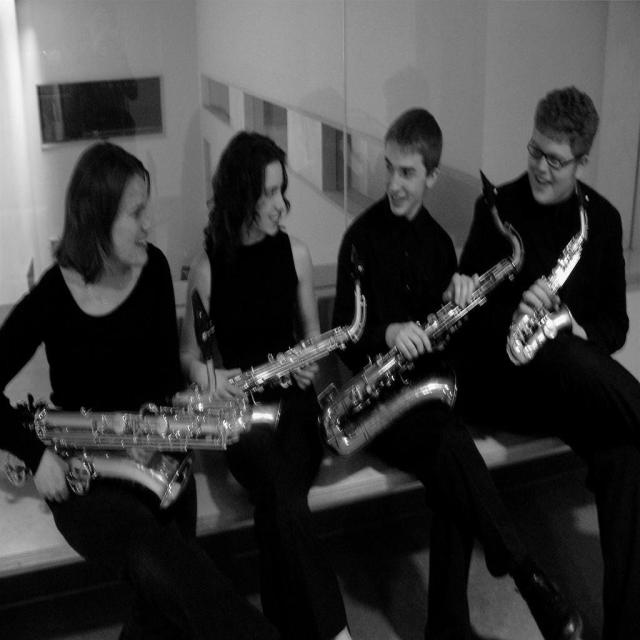saxophone: (0, 307, 288, 529), (320, 170, 524, 458), (173, 247, 370, 418), (504, 184, 597, 372)
